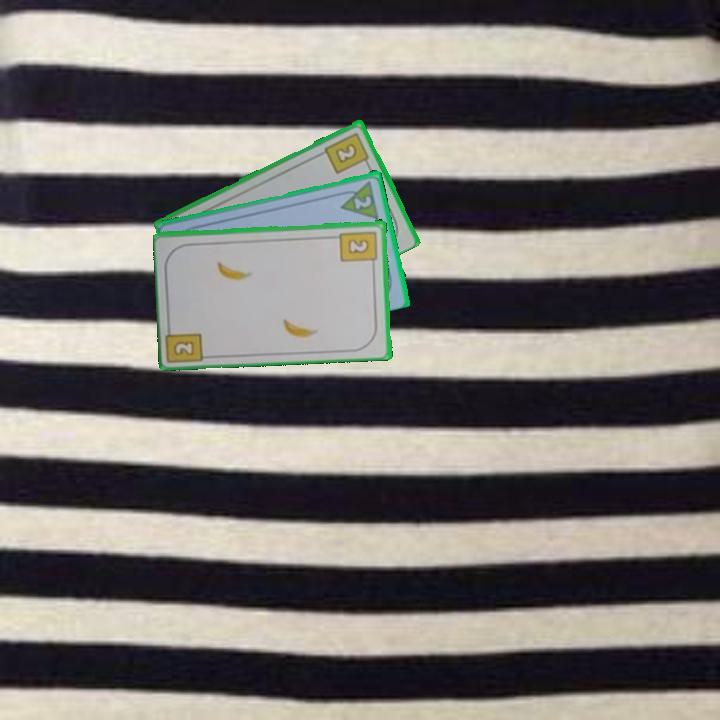2b: (321, 129, 372, 176), (165, 320, 208, 363), (337, 227, 380, 269)
2p: (351, 192, 375, 212)
